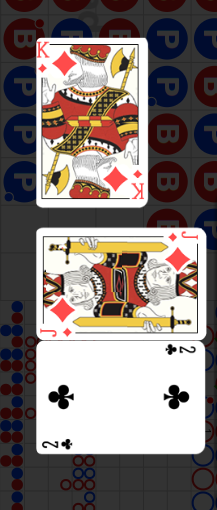2C: (41, 437, 75, 451)
KD: (132, 168, 146, 201)
